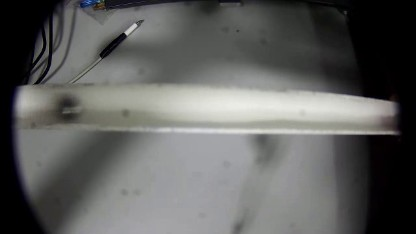gangzhu: (50, 92, 83, 123)
